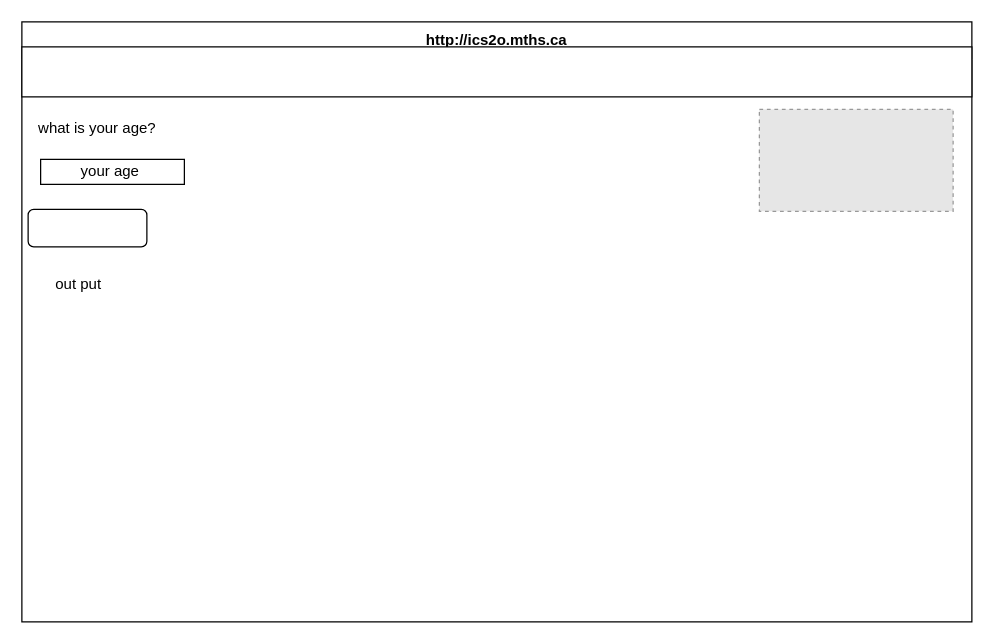
Image size: 994x644. Some labels were removed from this diagram. Grey dashed boxes stand in for pictures. The centre of each missing label's shape, as x and y in pixels:
Get video: the point at 87,227
Get your movie: the point at 496,71
